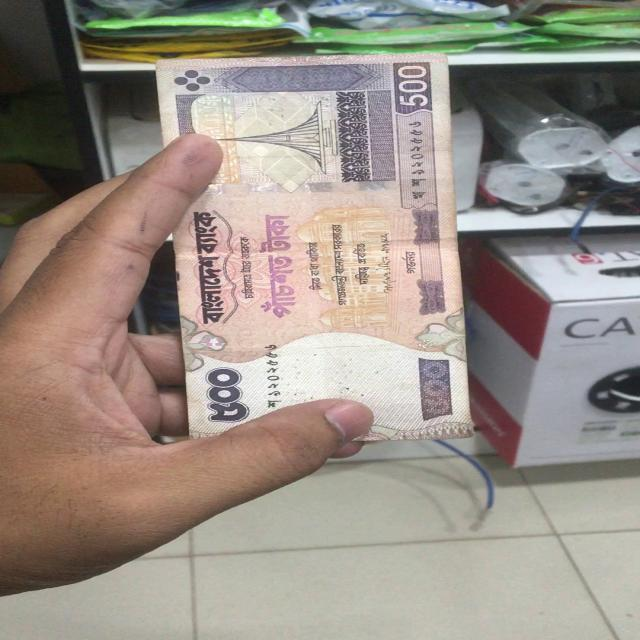Taka: (145, 60, 465, 439)
